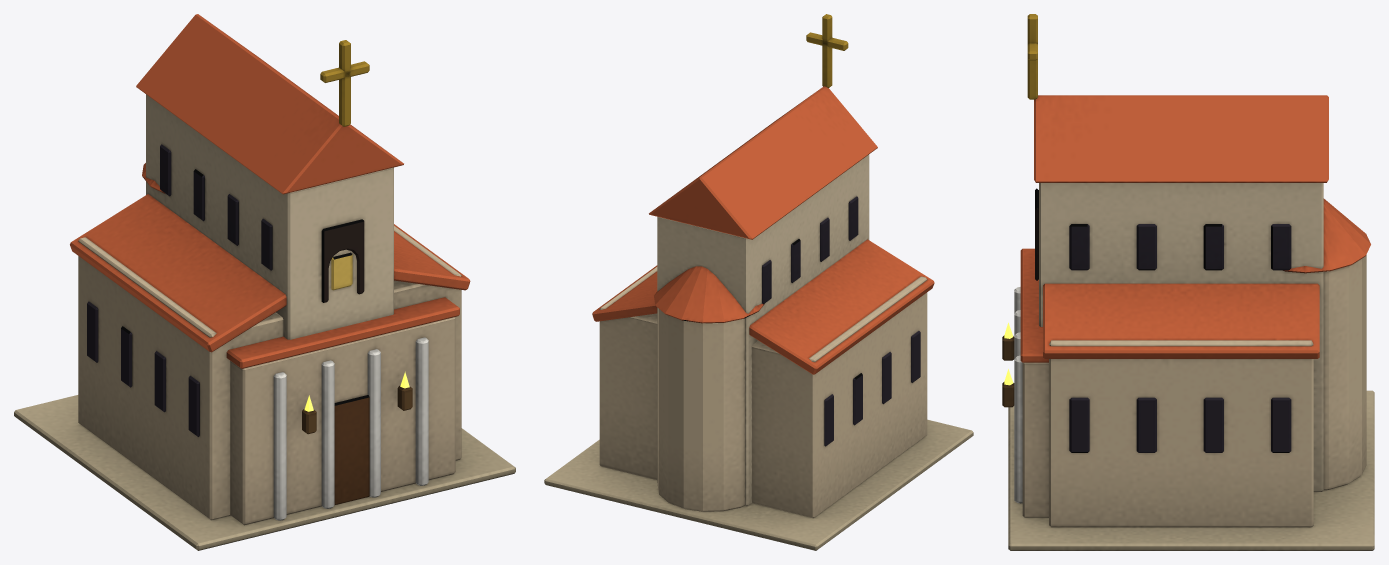
The model's file is bazylika.glb.
The picture shows the model from 3 angles, left to right: view 1: azimuth 30°, elevation 25°; view 2: azimuth 150°, elevation 25°; view 3: azimuth 270°, elevation 25°; orthographic projection. The views are drawn at different scales.
Parts seen in each view (by area): view 1: bazylika; view 2: bazylika; view 3: bazylika.
Part boxes in pixels (left/top/right/bottom): bazylika: left=14, top=14, right=515, bottom=550; bazylika: left=544, top=14, right=973, bottom=550; bazylika: left=1002, top=14, right=1374, bottom=550.
Size of the model in its own units: 1.8 by 2.49 by 1.83.
2 materials, 1 textured.
